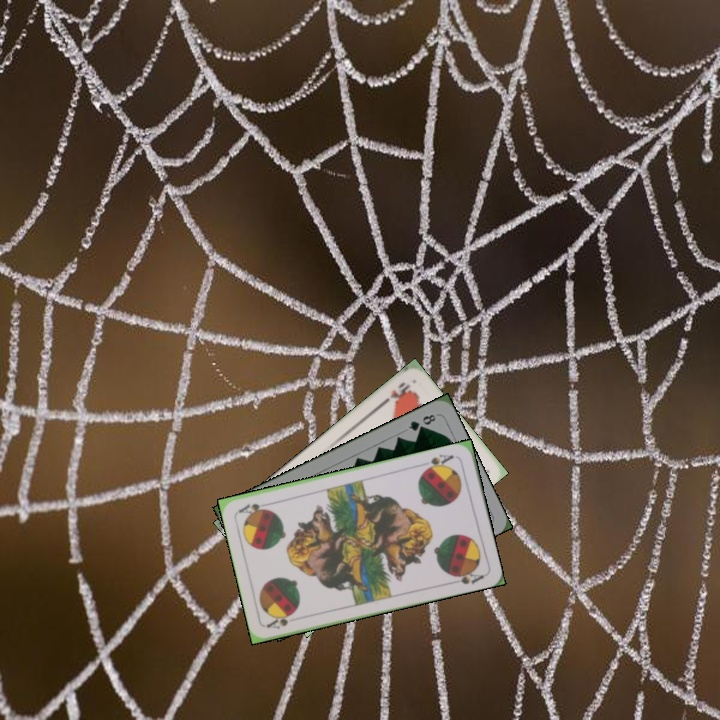G8: (404, 410, 440, 434)
HO: (378, 378, 413, 407)
SA: (420, 450, 456, 474), (263, 609, 297, 632)
